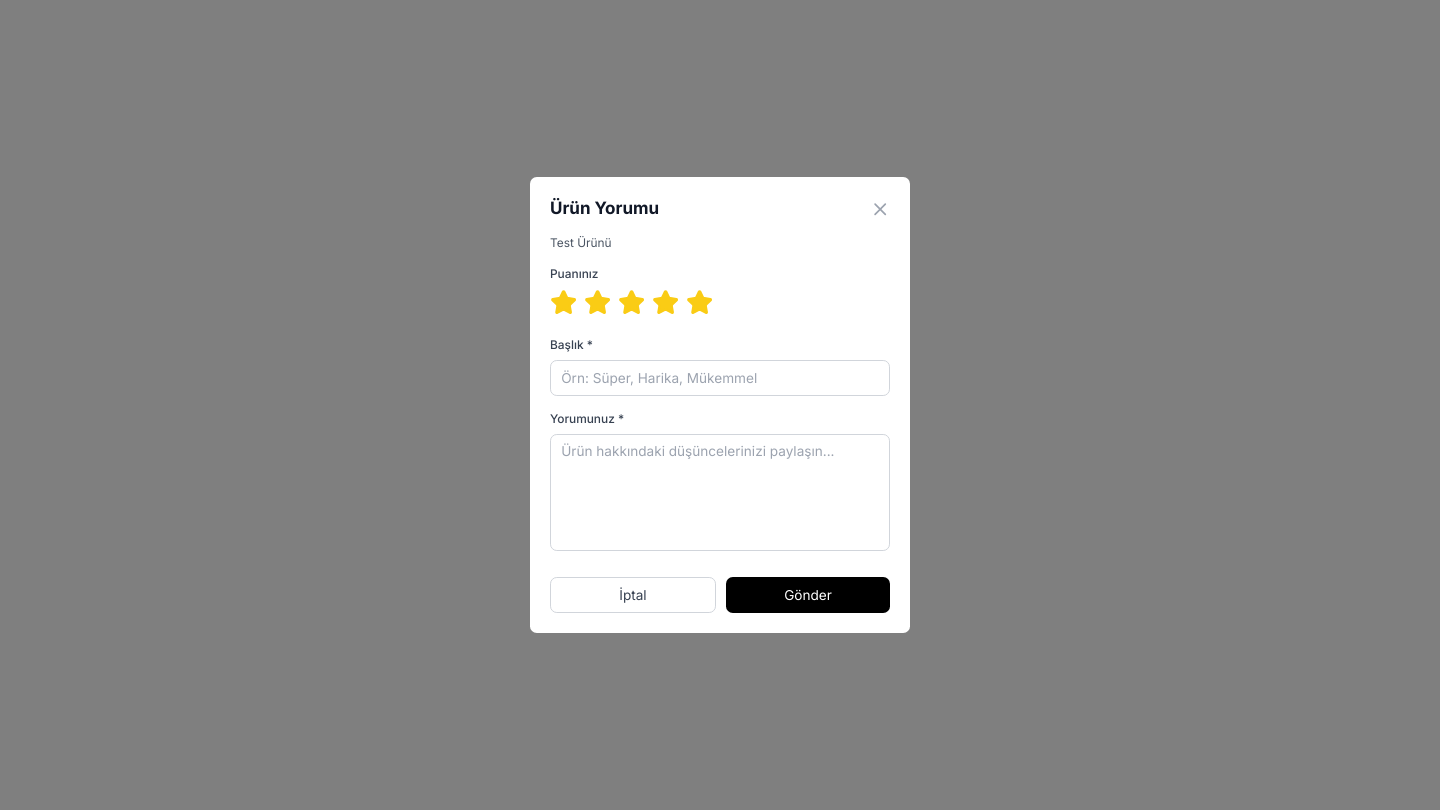
ReviewModal Bileşeni › API hatası durumunda hata mesajı göstermelidir
Click the 6th button: point(700, 302) [686,289,713,316]
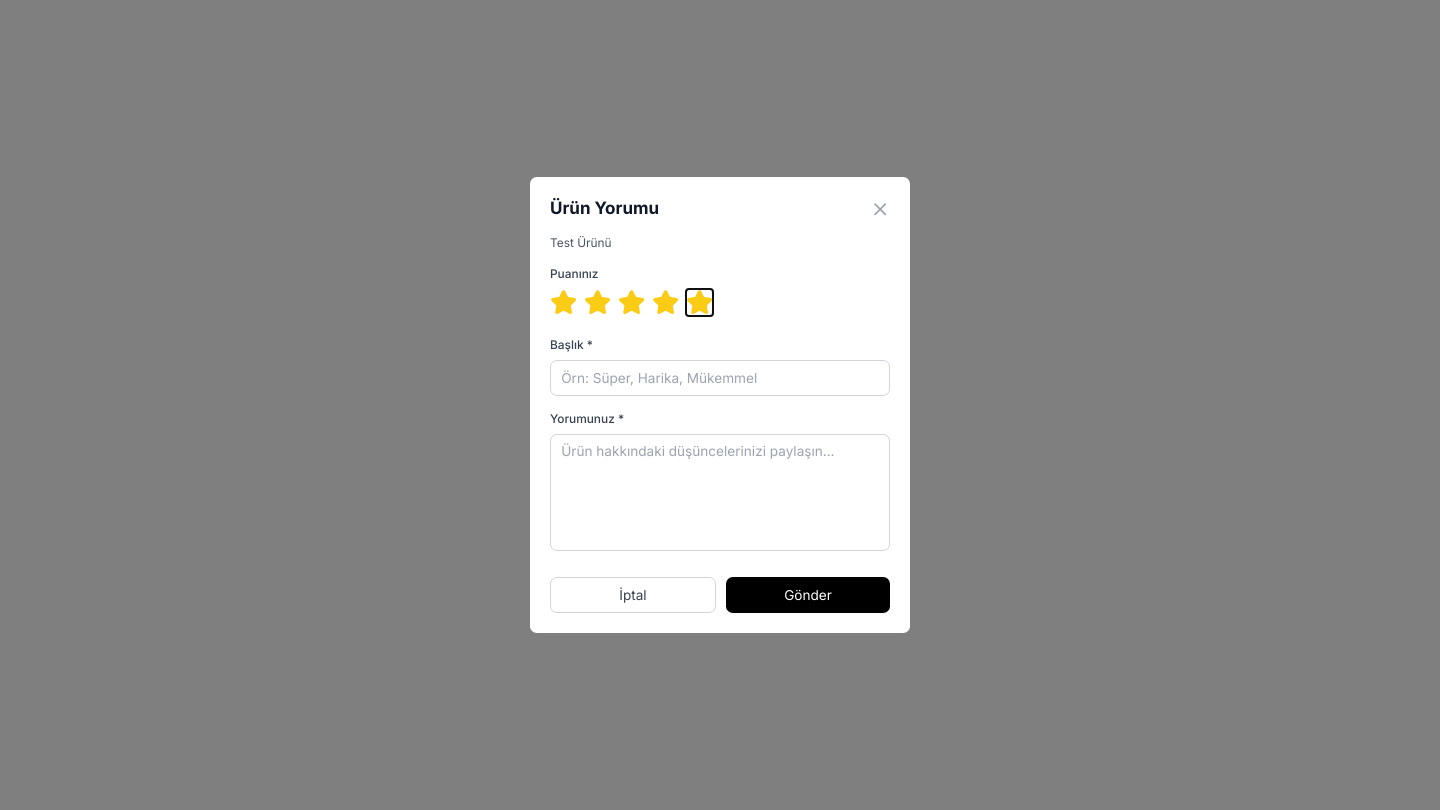
In the field with placeholder "Örn: Süper, Harika, Mükemmel": point(720, 378) [550,360,890,396], type "Test Başlık"
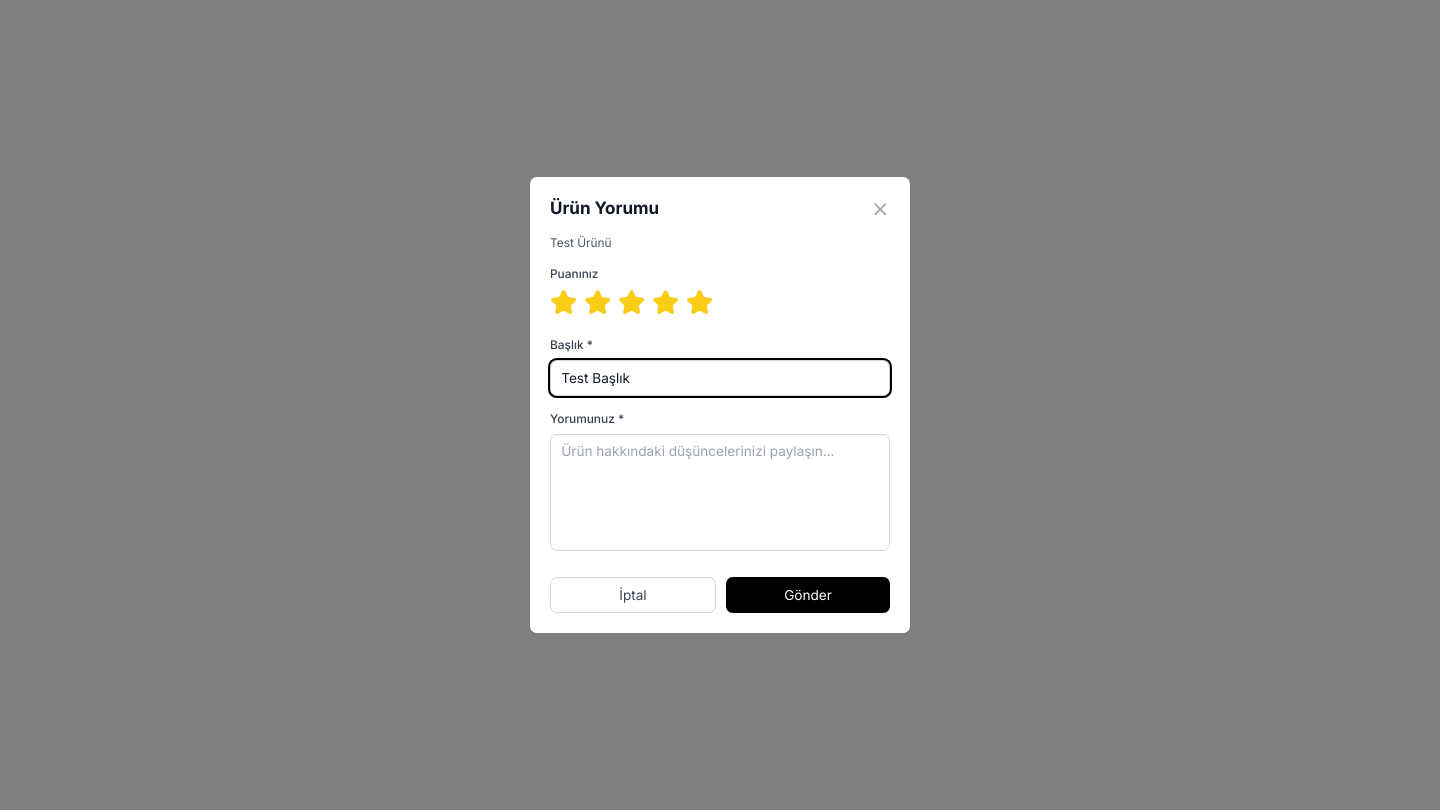
In the text box with placeholder "Ürün hakkındaki düşüncelerinizi paylaşın...": point(720, 492) [550,434,890,551], type "Test Yorum"
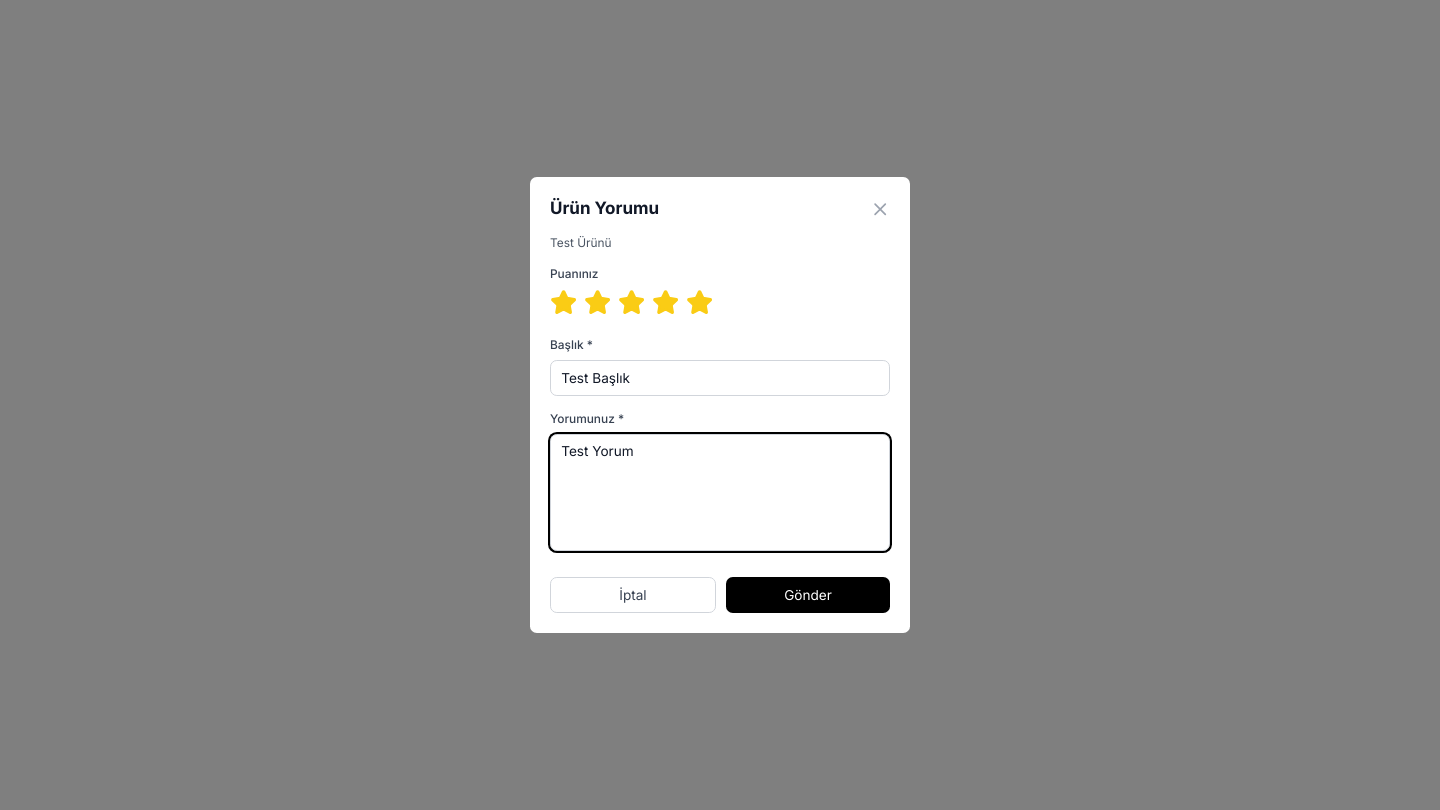
Click the button "Gönder": point(808, 595) [726,577,890,613]
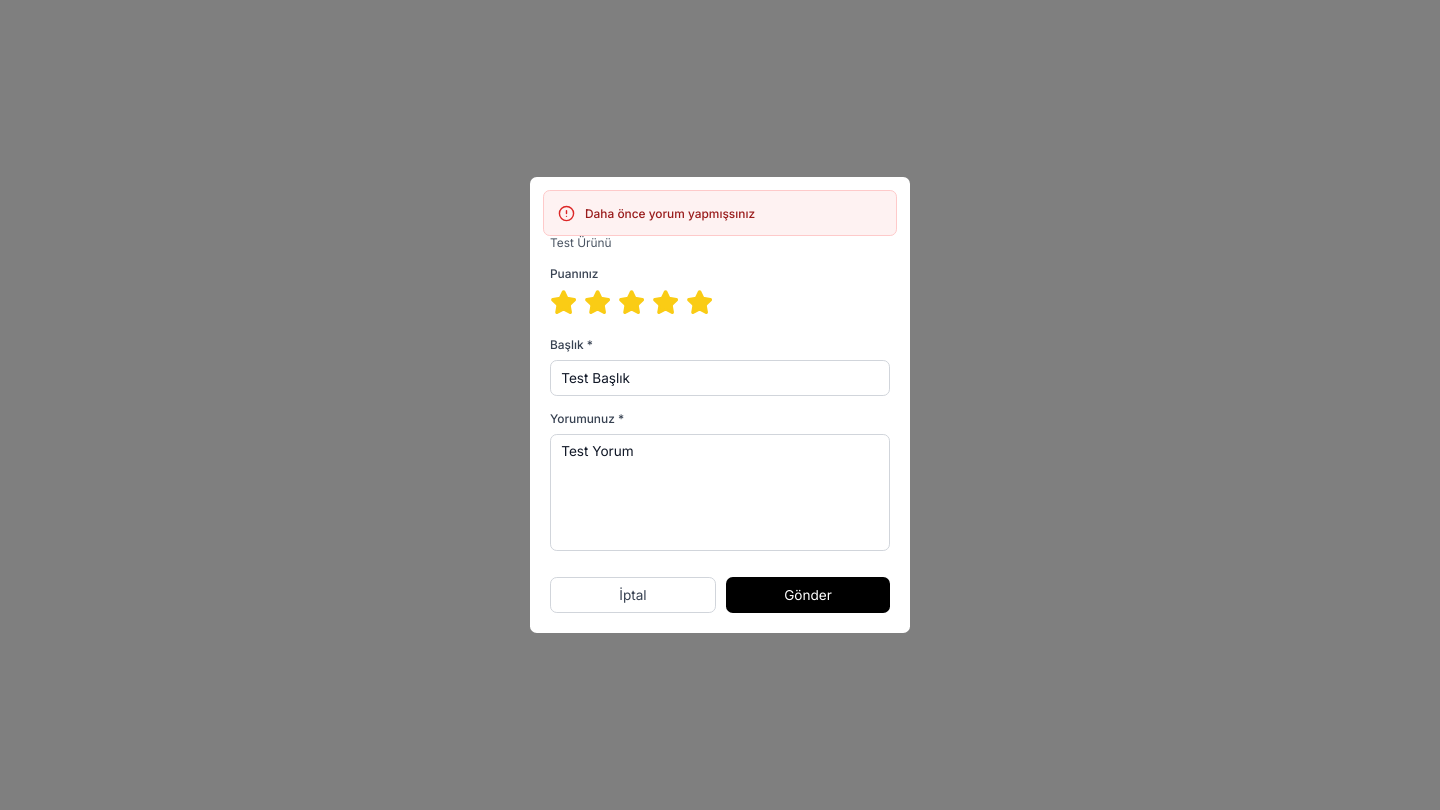
expect the text "Daha önce yorum yapmışsınız" is shown: met, box [585,205,755,222]
